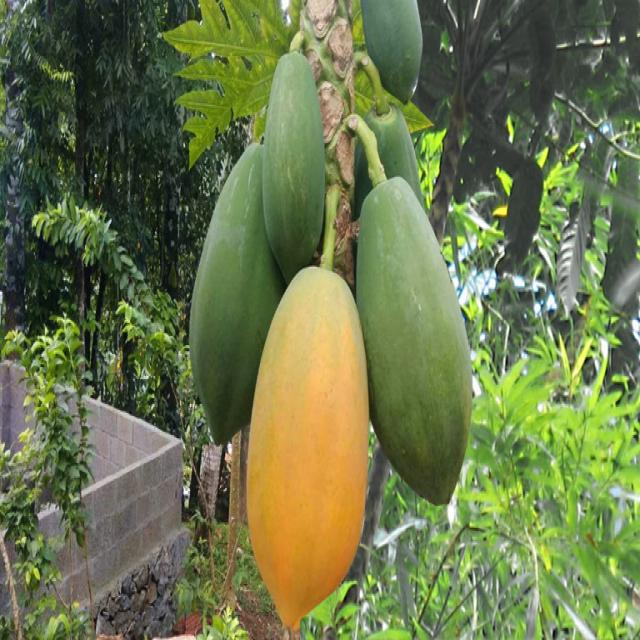Pepaya rippen: (247, 281, 366, 640)
Pepaya unrippen: (359, 168, 483, 510), (187, 137, 256, 434), (250, 49, 332, 255)
